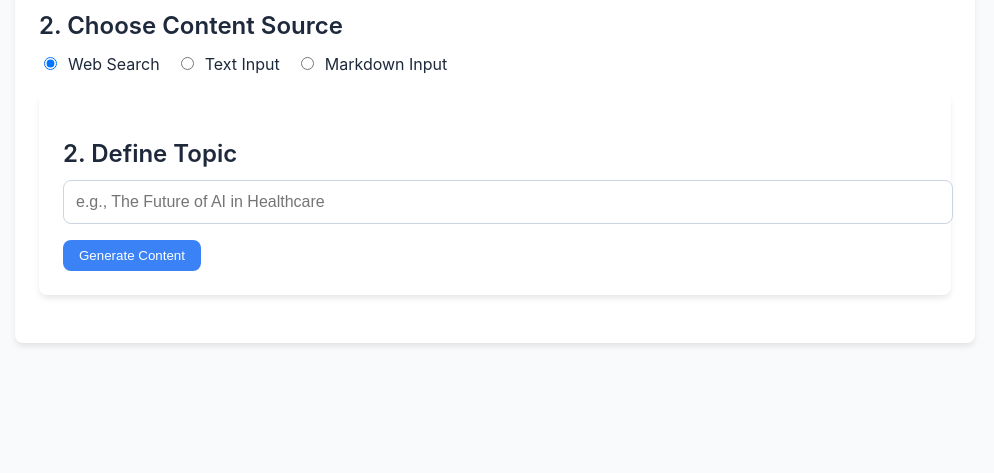
Test case: ContentInput › Text Input › displays character counter that updates on input
Click the radio button labelled "Text Input". click: coordinates (187, 63)
box: [181,57,194,70]
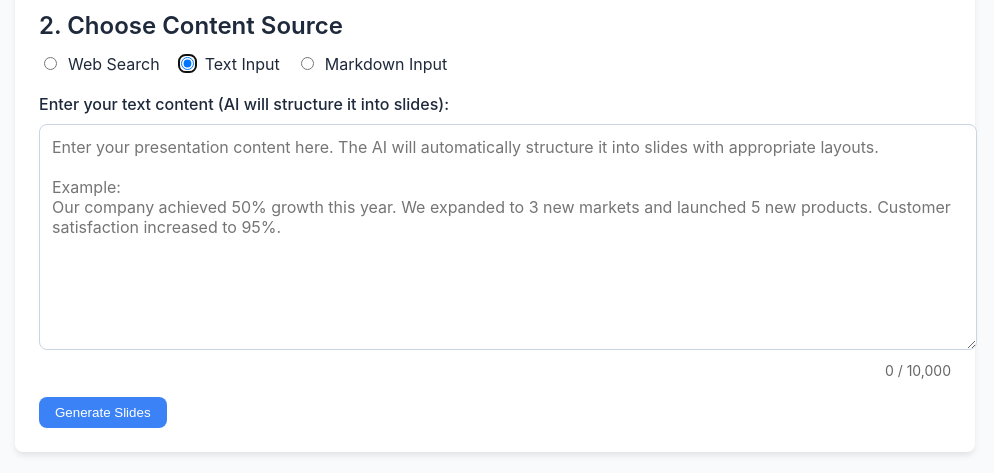
expect the text with test id "character-counter" reads "0 / 10,000": met, box [885,362,951,379]
Type "Hello World" into the text box with test id "text-input-textarea". click: coordinates (508, 237)
box: [39,124,977,350]
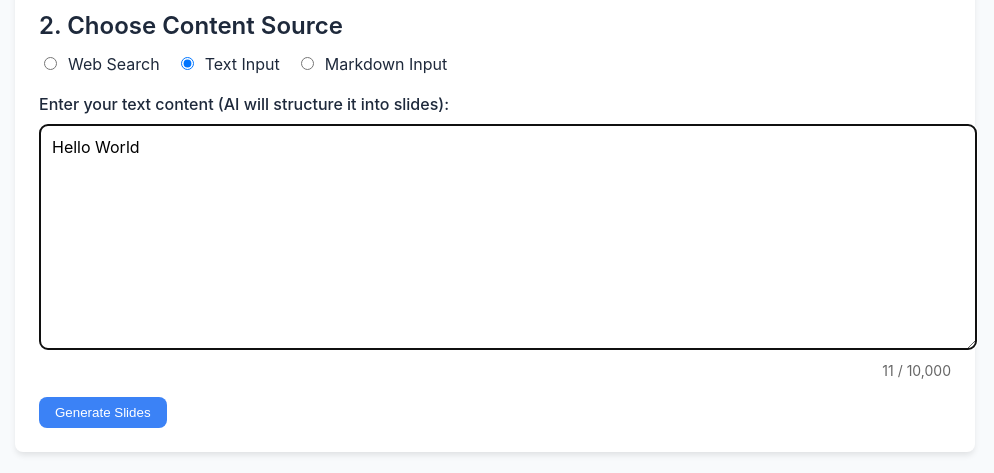
expect the text with test id "character-counter" reads "11 / 10,000": met, box [882,362,951,379]
